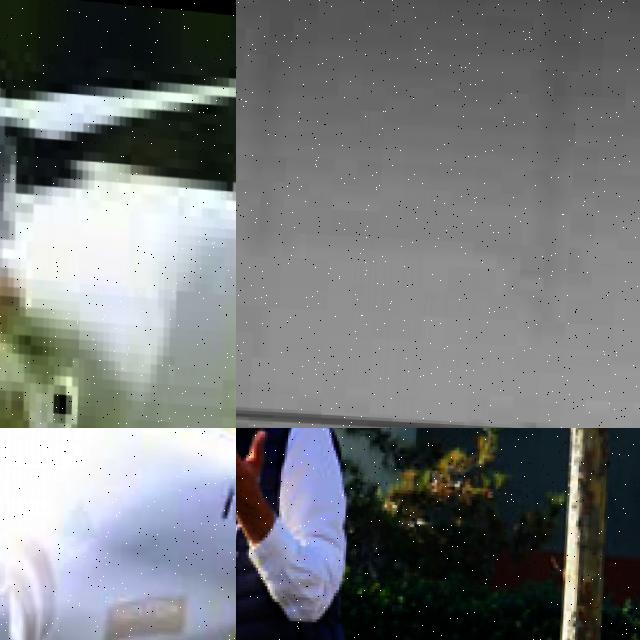0: (0, 428, 236, 640)
drone: (0, 0, 236, 428)
